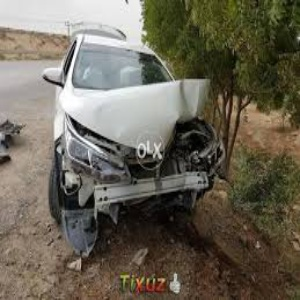bonnet: (89, 76, 209, 137)
bumper: (66, 165, 215, 225)
